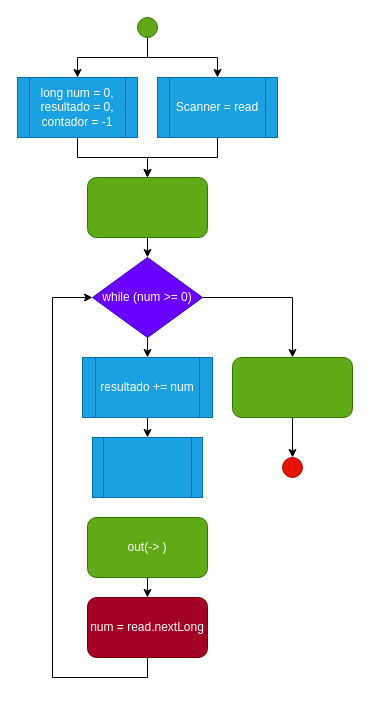
The diagram is 370 pixels wide and 703 high, and some of its shapes have lost their labels. The shapes that lost their labels are listed below. From the top down, each one's box as (x1, y1, x2, y2) in pixels, then its label:
(86, 176, 208, 238): out (Introduce un numero a sumar[-1 para salir]: )
(232, 356, 352, 418): out(La media introducida es + [resultado / contador])
(92, 436, 202, 498): contador++
